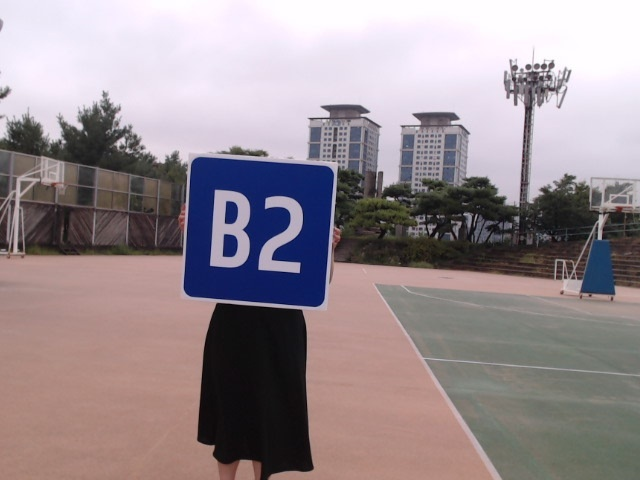delivery_b2: (182, 156, 336, 308)
